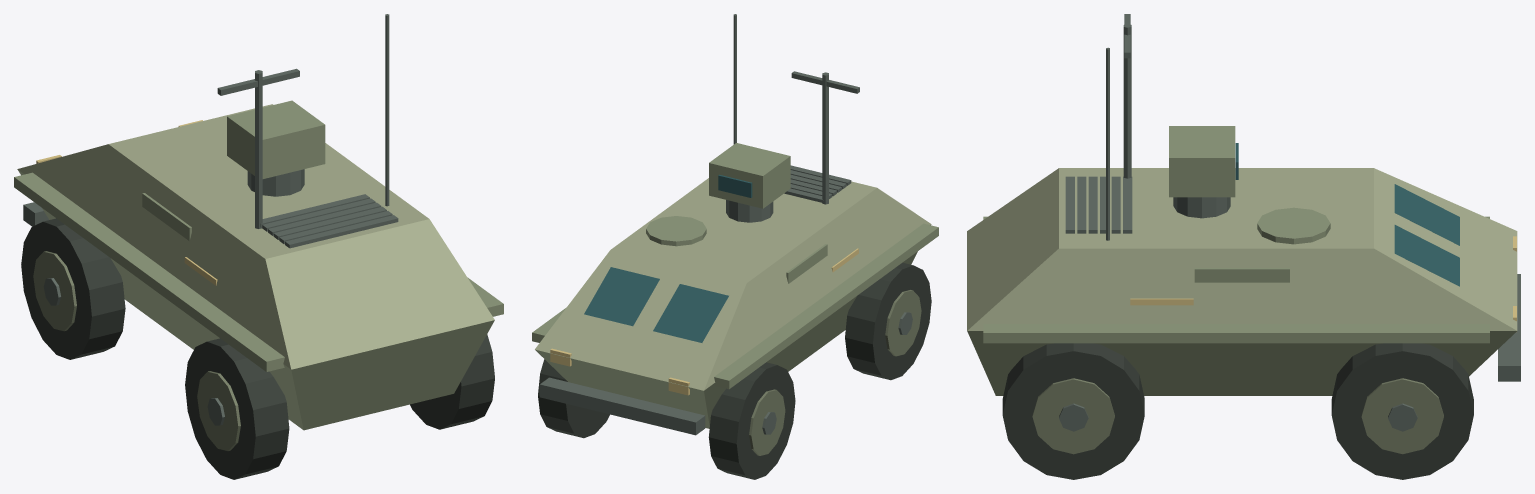
File: recon.glb
The picture shows the model from 3 angles, left to right: view 1: azimuth 30°, elevation 25°; view 2: azimuth 150°, elevation 25°; view 3: azimuth 270°, elevation 25°; orthographic projection. The views are drawn at different scales.
Parts seen in each view (by area): view 1: Recon_Roof, Recon_Armor, Recon_Tires, Recon_SensorMetal, SensorYaw_Armor, Recon_WheelRims, SensorYaw_SensorMetal; view 2: Recon_Roof, Recon_Tires, Recon_Armor, Recon_SensorMetal, Recon_ArmoredGlass, SensorYaw_Armor, Recon_WheelRims, Recon_TeamMarkings, SensorYaw_SensorMetal, SensorYaw_ArmoredGlass; view 3: Recon_Roof, Recon_Armor, Recon_Tires, Recon_WheelRims, Recon_SensorMetal, SensorYaw_Armor, Recon_ArmoredGlass, SensorYaw_SensorMetal, Recon_TeamMarkings.
Boxes of the visible parts, left/top/right/bottom form: Recon_Roof: left=17, top=104, right=494, bottom=369; Recon_Armor: left=14, top=169, right=503, bottom=430; Recon_Tires: left=21, top=218, right=494, bottom=479; Recon_SensorMetal: left=23, top=14, right=398, bottom=425; SensorYaw_Armor: left=227, top=100, right=325, bottom=178; Recon_WheelRims: left=33, top=251, right=240, bottom=450; SensorYaw_SensorMetal: left=247, top=169, right=304, bottom=196; Recon_Roof: left=535, top=178, right=931, bottom=390; Recon_Tires: left=538, top=262, right=931, bottom=479; Recon_Armor: left=532, top=216, right=938, bottom=428; Recon_SensorMetal: left=539, top=14, right=912, bottom=435; Recon_ArmoredGlass: left=584, top=267, right=728, bottom=342; SensorYaw_Armor: left=709, top=143, right=790, bottom=208; Recon_WheelRims: left=749, top=290, right=921, bottom=455; Recon_TeamMarkings: left=550, top=248, right=858, bottom=395; SensorYaw_SensorMetal: left=726, top=200, right=773, bottom=222; SensorYaw_ArmoredGlass: left=718, top=174, right=752, bottom=197; Recon_Roof: left=967, top=168, right=1517, bottom=330; Recon_Armor: left=967, top=207, right=1516, bottom=395; Recon_Tires: left=1002, top=343, right=1473, bottom=479; Recon_WheelRims: left=1032, top=378, right=1443, bottom=454; Recon_SensorMetal: left=1059, top=14, right=1520, bottom=431; SensorYaw_Armor: left=1169, top=126, right=1235, bottom=197; Recon_ArmoredGlass: left=1394, top=184, right=1459, bottom=286; SensorYaw_SensorMetal: left=1173, top=197, right=1230, bottom=218; Recon_TeamMarkings: left=1130, top=236, right=1516, bottom=332.
Bounding box in the file's own units: 2.53 × 3.89 × 4.83.
